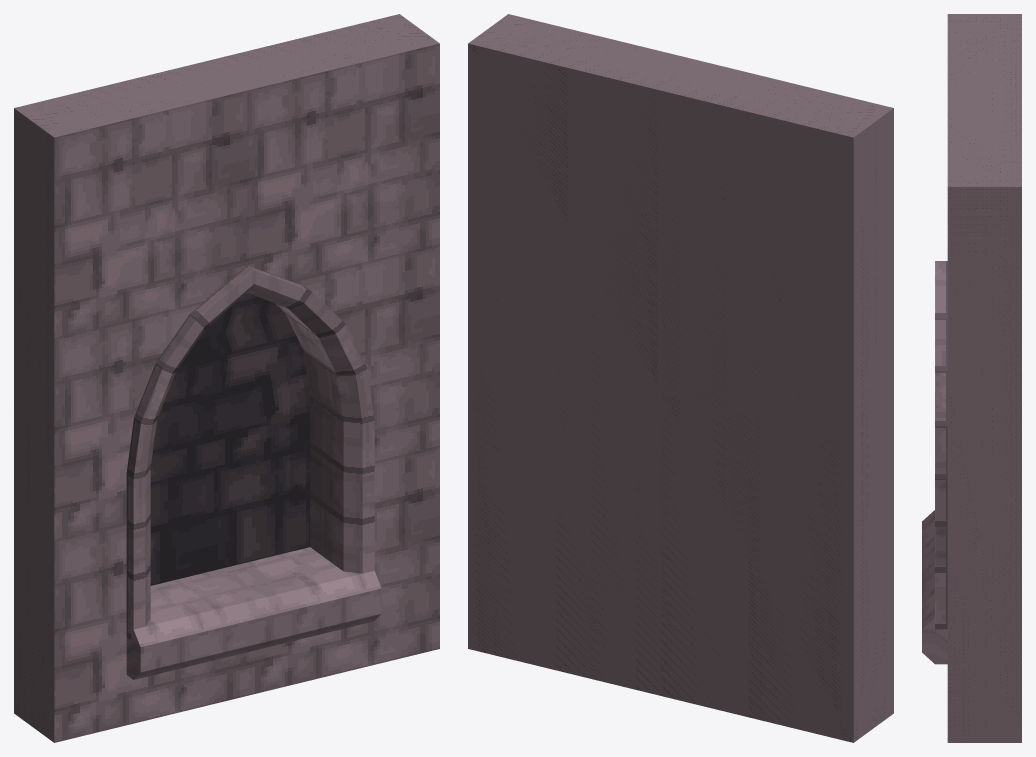
The model's file is wandnische_t30_c.glb.
3 renders of one model, left to right at view 1: azimuth 30°, elevation 25°; view 2: azimuth 150°, elevation 25°; view 3: azimuth 270°, elevation 25°, orthographic. The views are drawn at different scales.
Parts seen in each view (by area): view 1: platte, gewaende, sohlbank; view 2: platte; view 3: platte, gewaende, sohlbank.
Part boxes in pixels (box(x1,y1,x2,y2)): platte: box(14, 14, 439, 742); gewaende: box(126, 265, 374, 639); sohlbank: box(126, 547, 381, 679); platte: box(468, 14, 893, 742); platte: box(947, 14, 1021, 742); gewaende: box(935, 261, 947, 629); sohlbank: box(922, 510, 947, 664).
Bounding box in the file's own units: 2 × 3 × 0.4875.
1 material, 1 textured.
